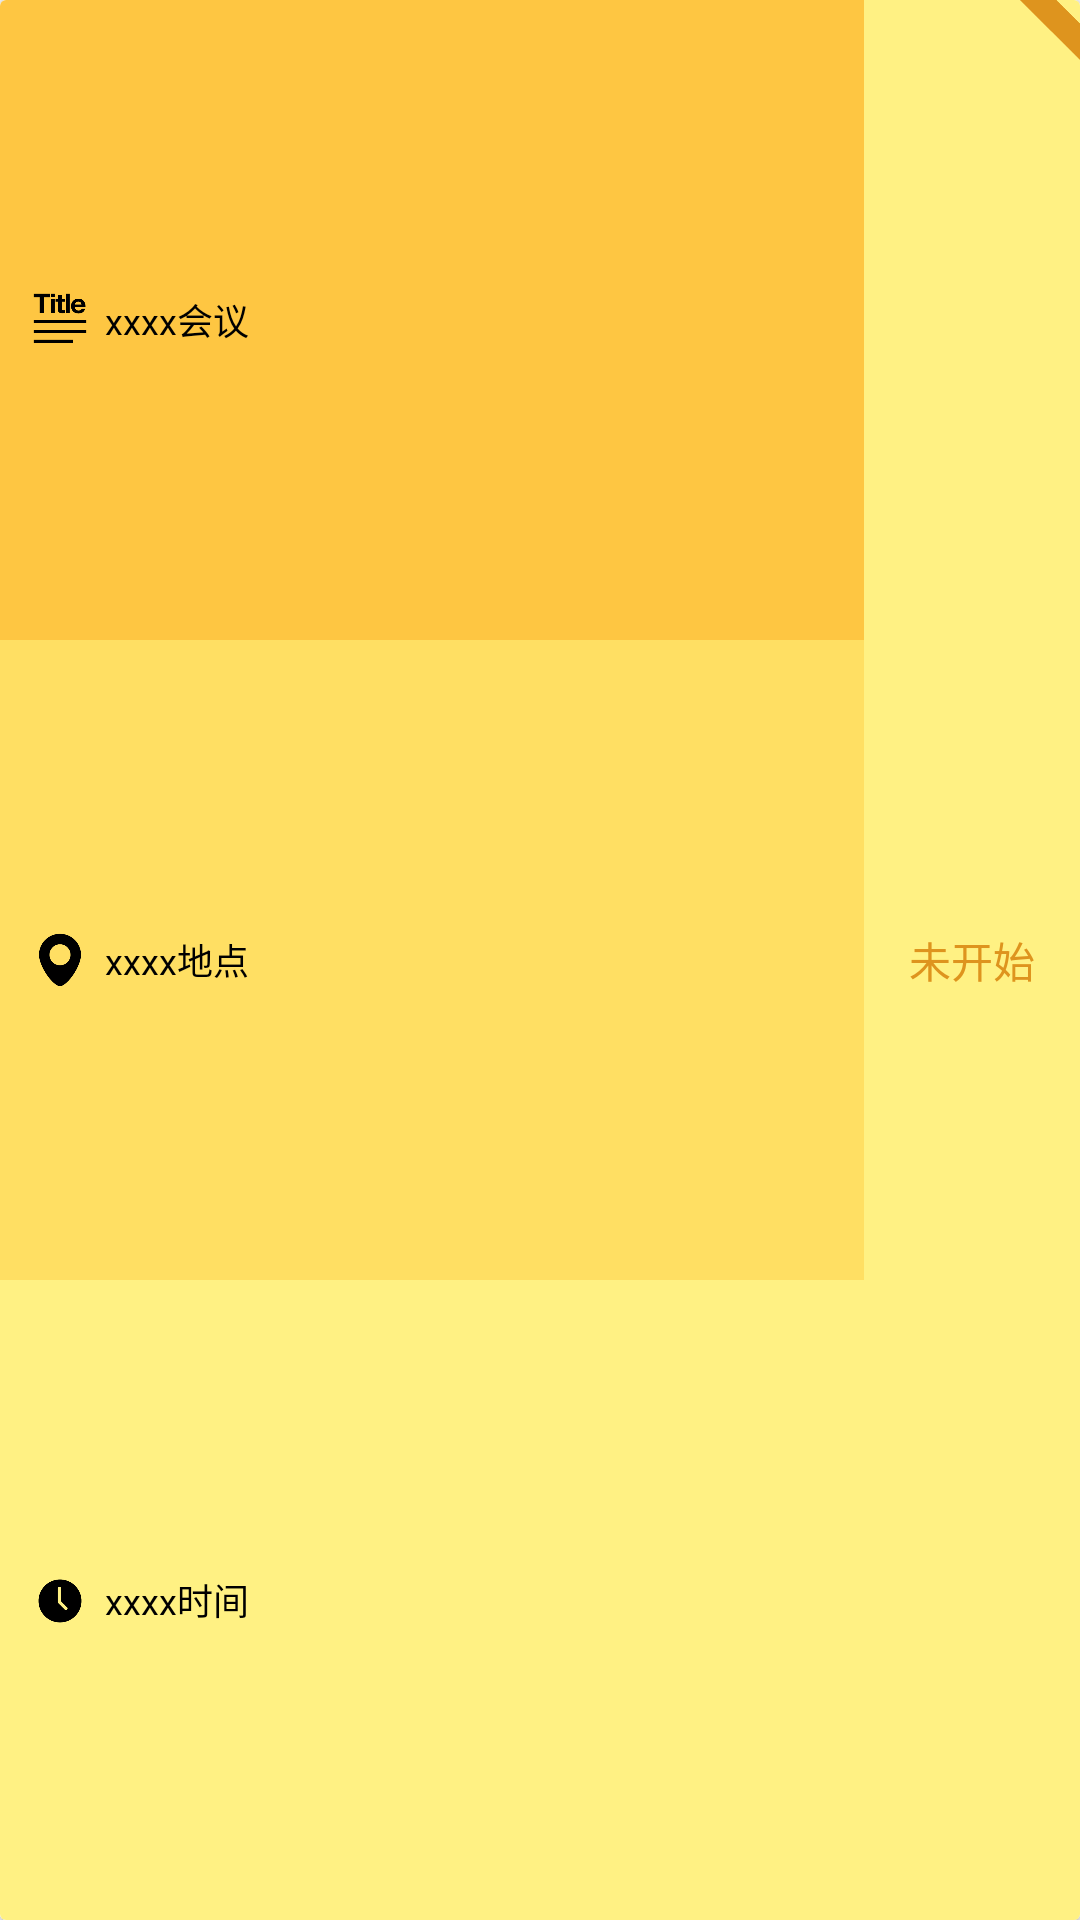

Icons on this 1080x1920 Android screen, each with the point to tap as (x,y):
location: (60,960)
time: (60,1601)
